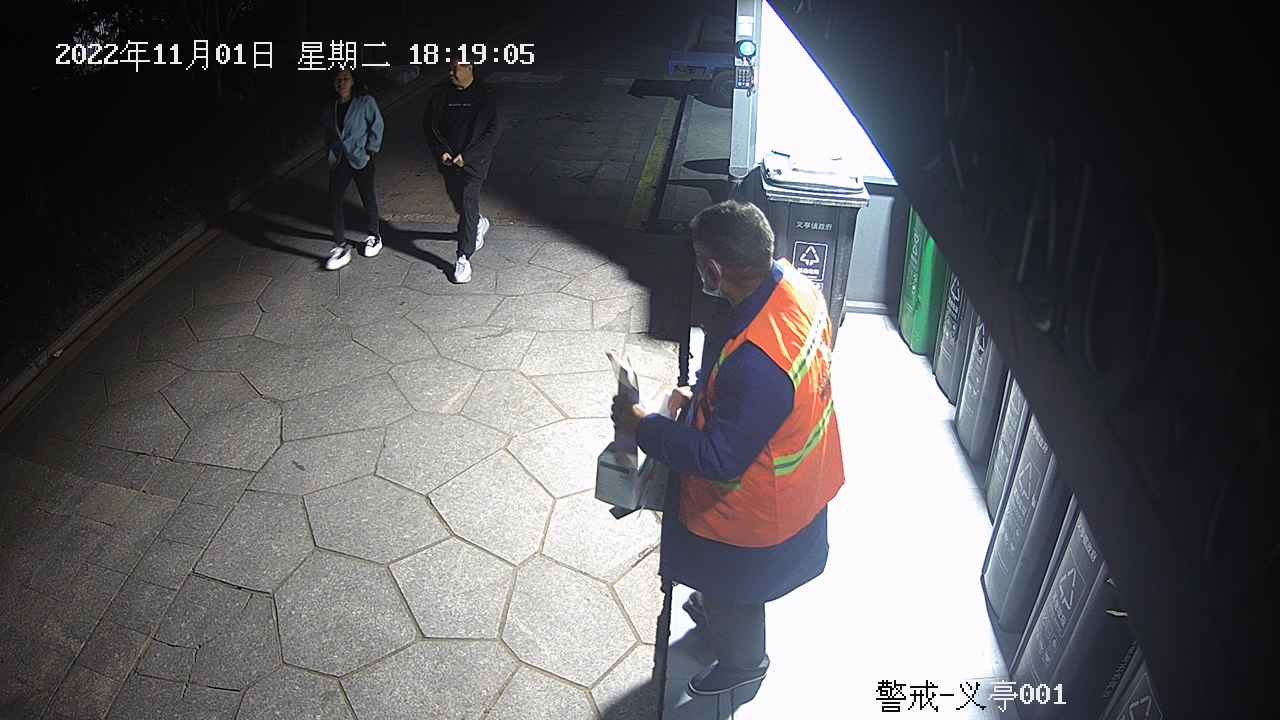person: (420, 57, 492, 284), (324, 65, 386, 270)
worker: (609, 199, 848, 698)
